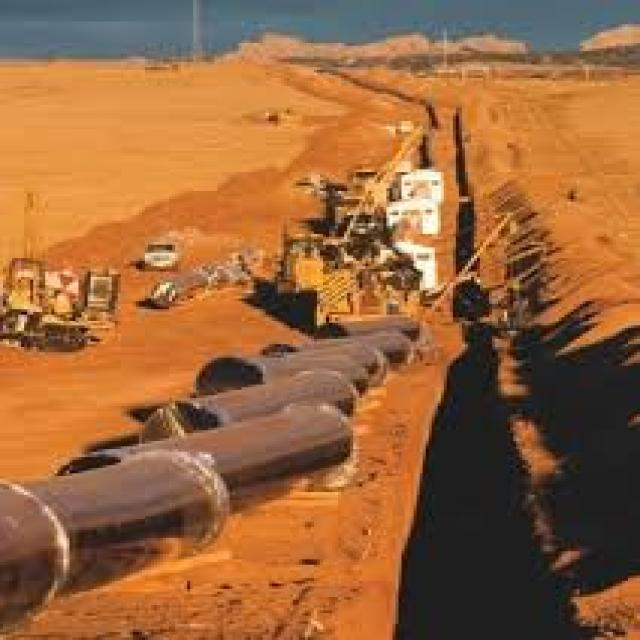gas: (1, 317, 420, 626)
